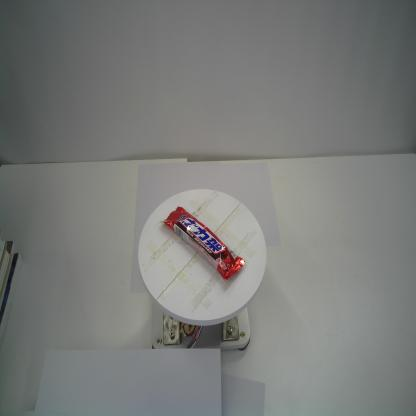Chocolate: (160, 206, 245, 280)
